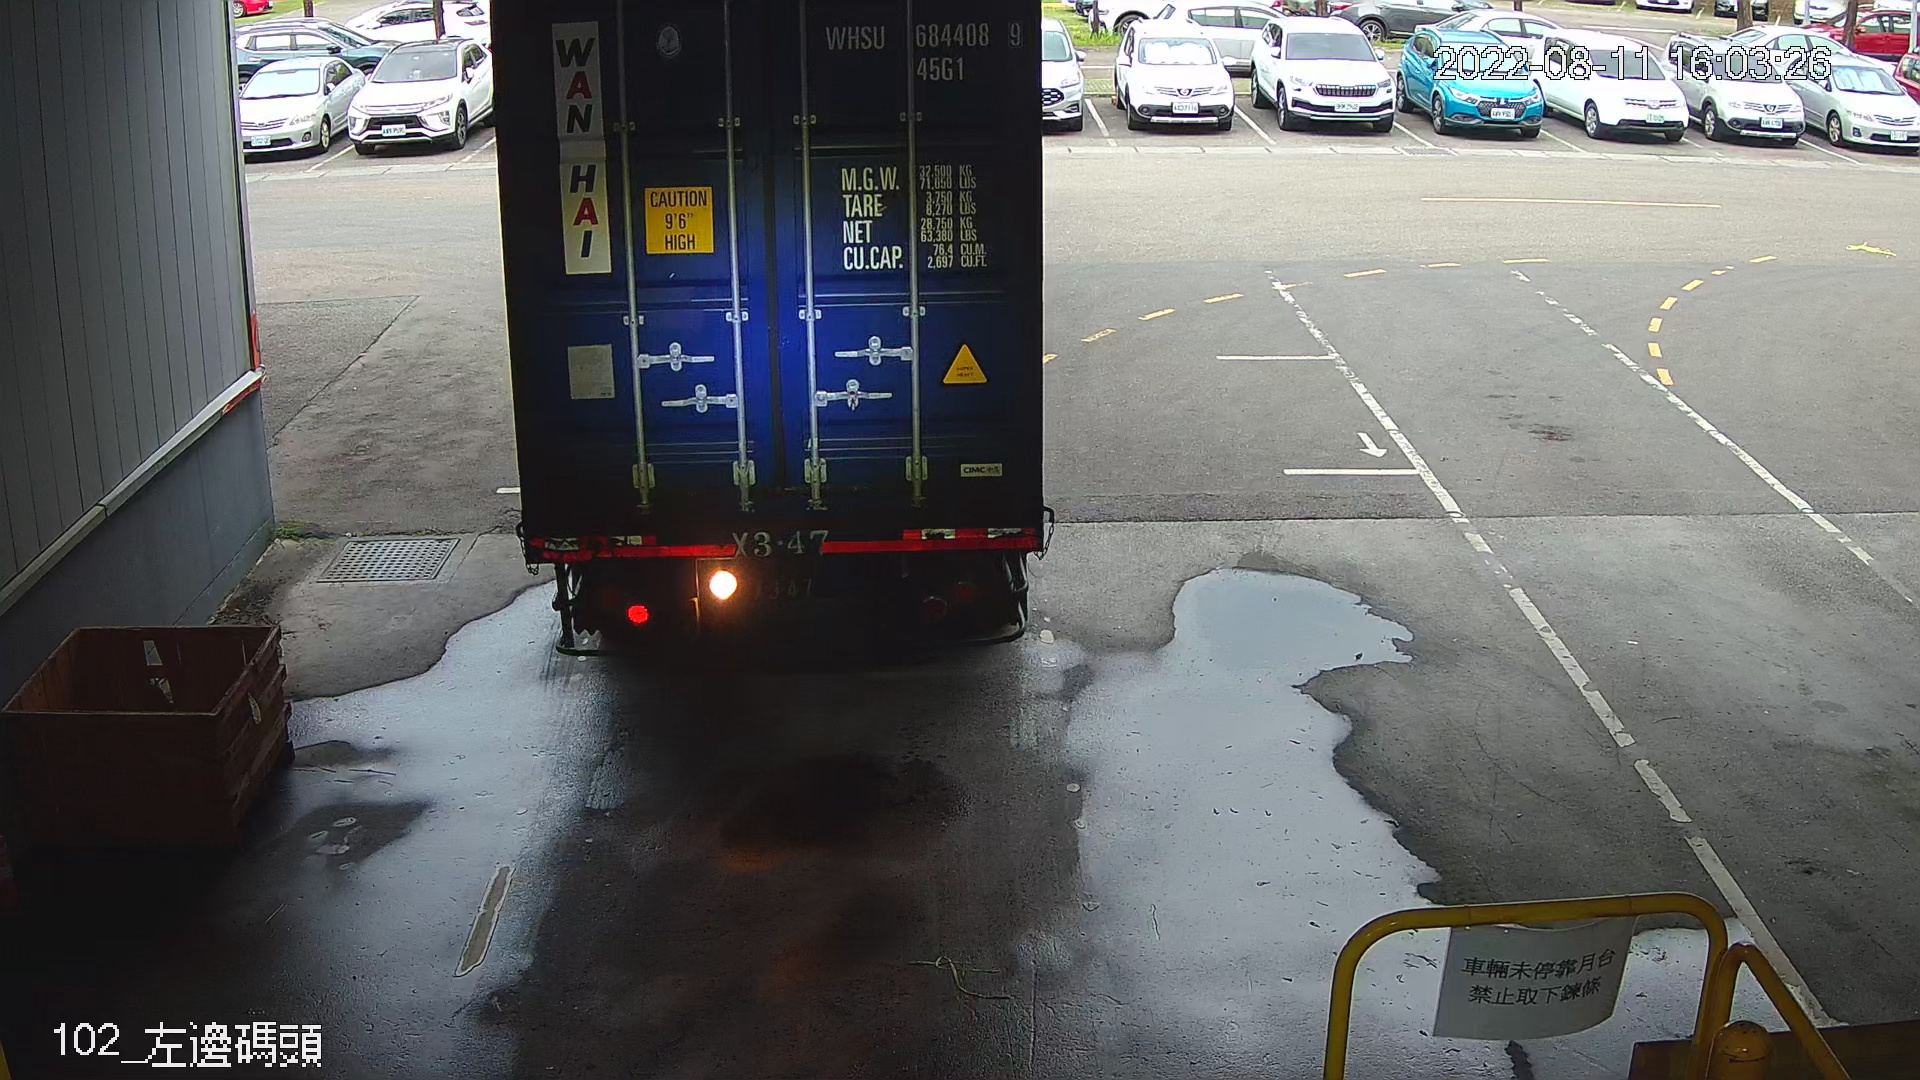container: (819, 15, 1033, 88)
